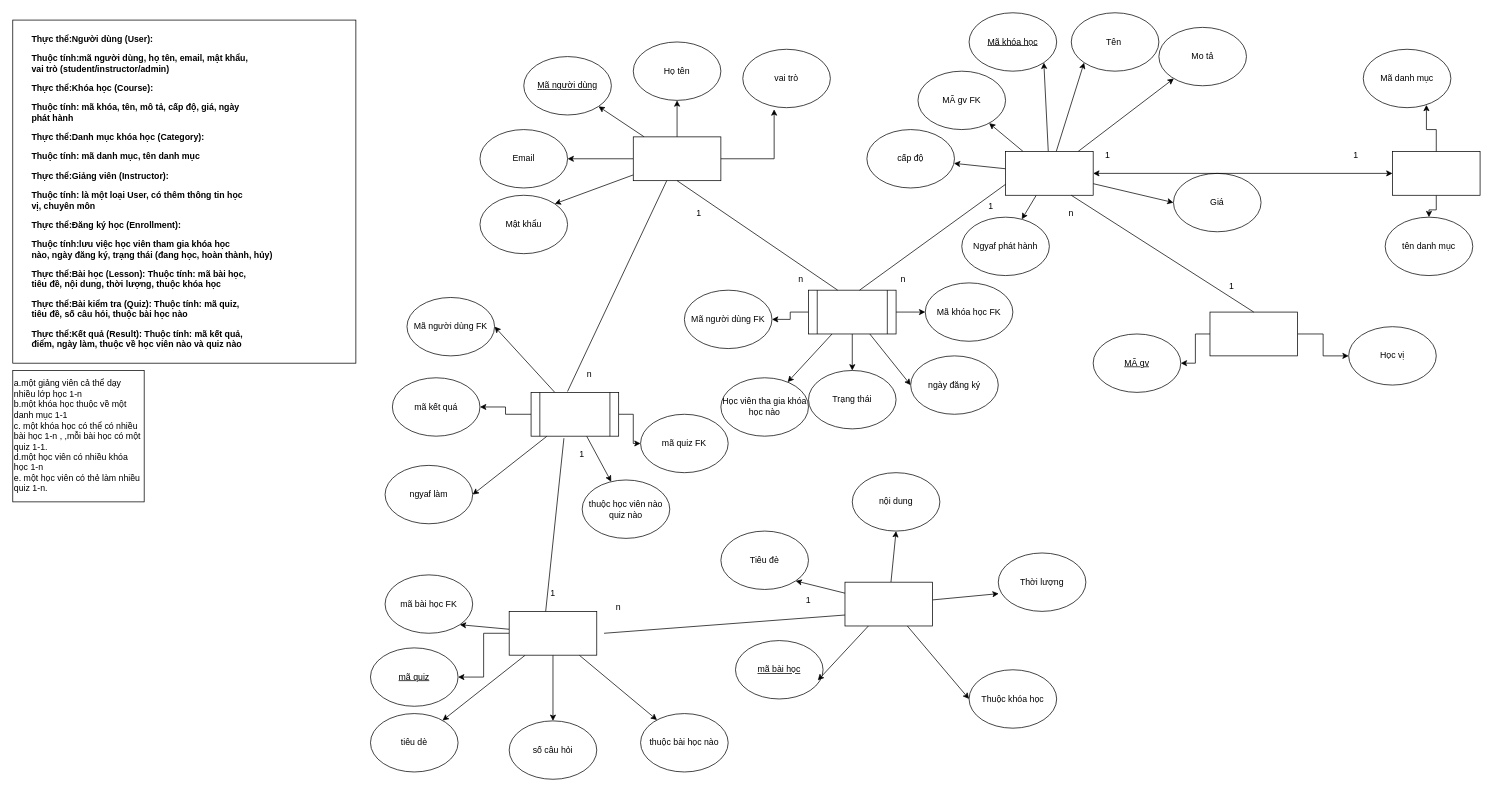
This 1493x792 diagram has some shape labels left out. Here are the shapes that lost their labels. From the top down, the centre of each, then its label:
At [677,158]: "Người dùng".
At [1049,173]: "Khóa học".
At [1436,173]: "Danh mục khóa học".
At [852,311]: "Đăng ký học".
At [1253,333]: "Giảng viên".
At [574,414]: "kết quả".
At [888,603]: "bài học".
At [552,633]: "Bài kiểm tra".
